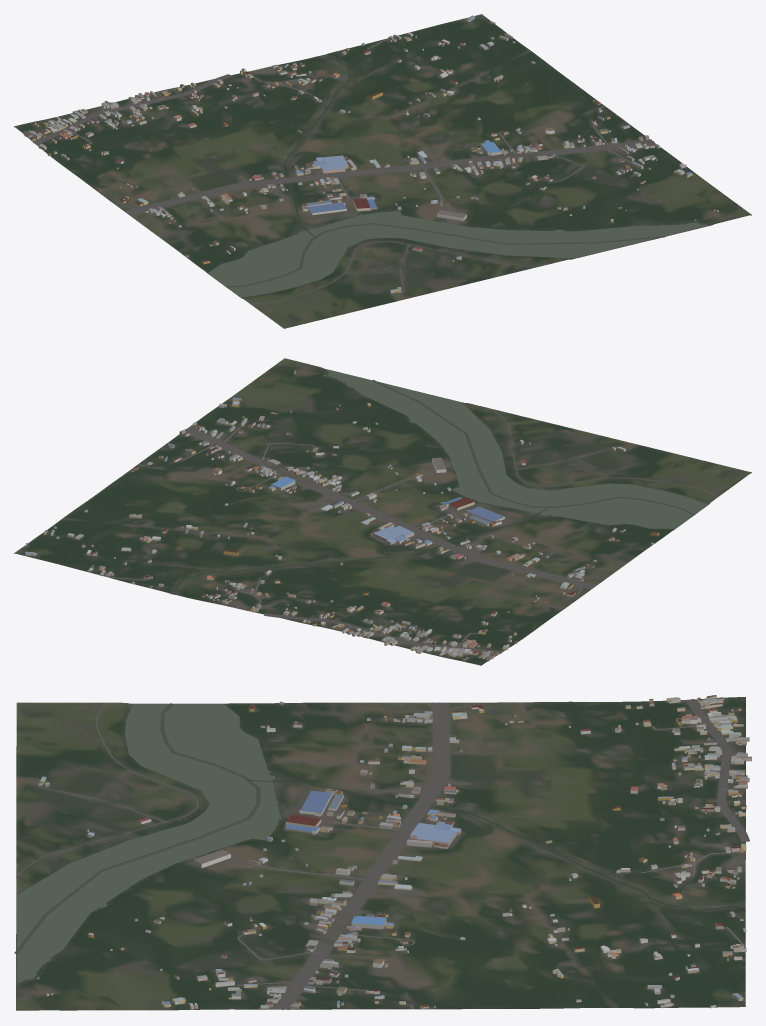
3 views of the same model, one above another, from view 1: azimuth 30°, elevation 25°; view 2: azimuth 150°, elevation 25°; view 3: azimuth 270°, elevation 25° (orthographic). The views are drawn at different scales.
Visible parts, largest first — view 1: ground, water, buildings, roads; view 2: ground, water, buildings, roads; view 3: ground, water, buildings, roads.
Boxes of the visible parts, <box> form: ground: <box>14,14,751,328</box>; water: <box>208,55,708,297</box>; buildings: <box>23,15,718,293</box>; roads: <box>33,38,655,304</box>; ground: <box>14,358,751,665</box>; water: <box>172,369,707,594</box>; buildings: <box>25,370,659,661</box>; roads: <box>107,407,717,653</box>; ground: <box>16,697,745,1010</box>; water: <box>14,703,745,983</box>; buildings: <box>37,695,751,1009</box>; roads: <box>16,699,749,1009</box>.
Size of the model in its own units: 1403 by 24.36 by 1417.
